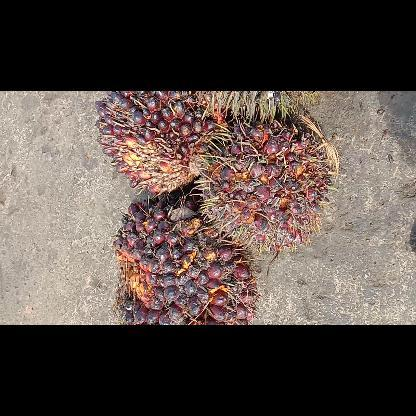Kurang masak: (193, 116, 339, 252), (92, 91, 224, 191)
TBS masak: (113, 192, 255, 324)
